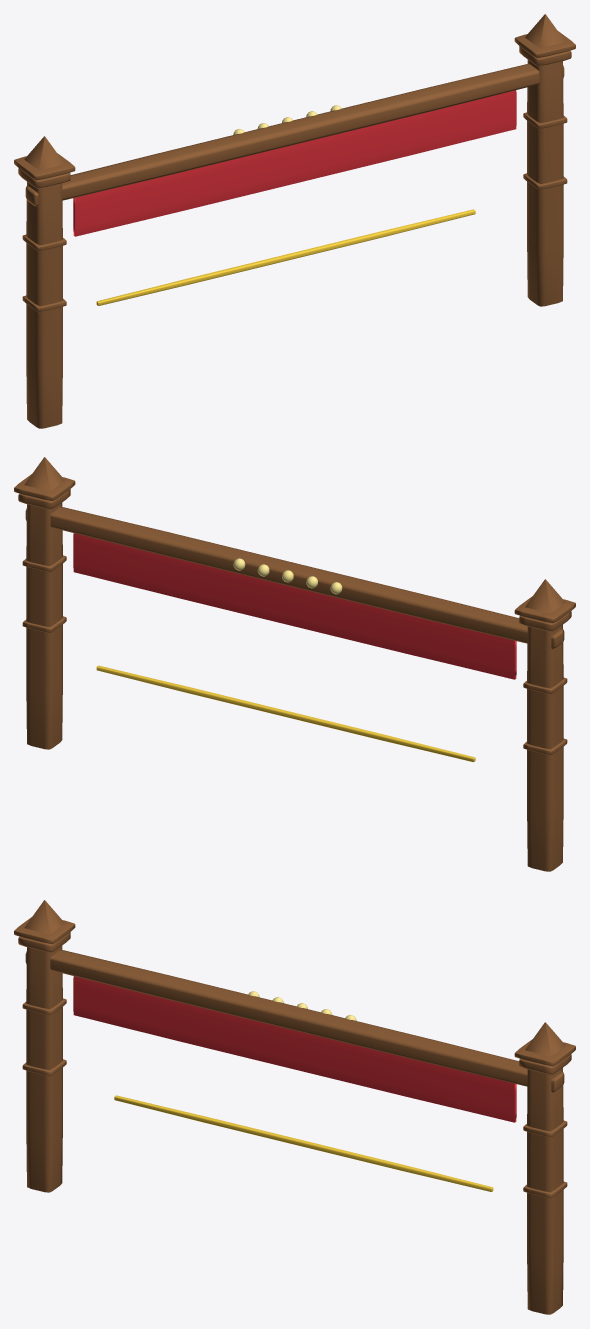
File: BobsledGate.obj
3 views of the same model, one above another, from view 1: azimuth 30°, elevation 25°; view 2: azimuth 150°, elevation 25°; view 3: azimuth 330°, elevation 25° (orthographic).
Parts seen in each view (by area): view 1: Frame, Banner, Bar; view 2: Frame, Banner, Bar, Lights; view 3: Frame, Banner, Bar.
Part boxes in pixels (x1=…): Frame: x1=14, y1=14, x2=575, y2=428; Banner: x1=73, y1=90, x2=516, y2=236; Bar: x1=96, y1=209, x2=475, y2=305; Frame: x1=14, y1=457, x2=575, y2=871; Banner: x1=73, y1=533, x2=516, y2=679; Bar: x1=96, y1=665, x2=475, y2=762; Lights: x1=233, y1=558, x2=342, y2=594; Frame: x1=14, y1=900, x2=575, y2=1314; Banner: x1=73, y1=976, x2=516, y2=1122; Bar: x1=114, y1=1095, x2=493, y2=1191.
Size of the model in its own units: 55.75 by 28.2 by 4.15.
